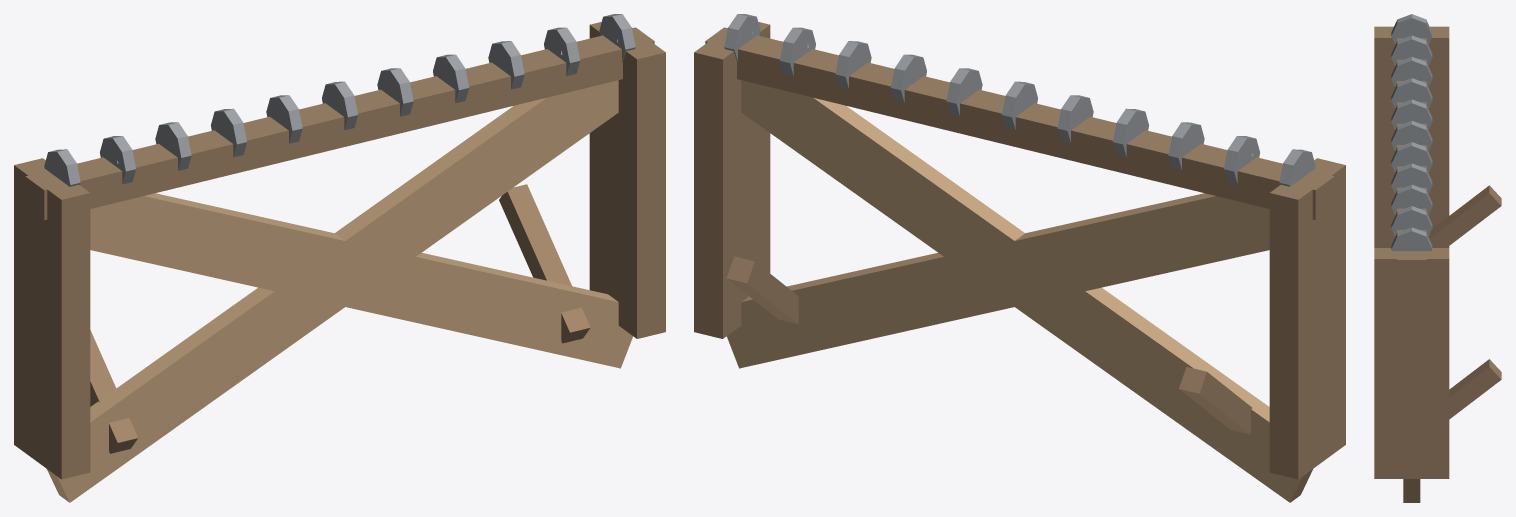
The model's file is barricade.glb.
3 views of the same model, side by side, from view 1: azimuth 30°, elevation 25°; view 2: azimuth 150°, elevation 25°; view 3: azimuth 270°, elevation 25° (orthographic). The views are drawn at different scales.
Visible parts, largest first — view 1: barricade; view 2: barricade; view 3: barricade.
Boxes of the visible parts, x1,y1,x2,y2 form: barricade: (14,14,665,502); barricade: (694,14,1345,502); barricade: (1374,14,1501,502).
Bounding box in the file's own units: 2.97 × 1.62 × 0.6799.
